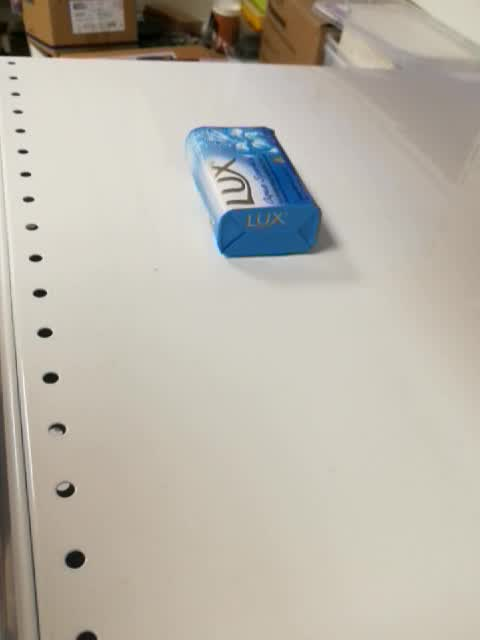soap: (185, 124, 323, 260)
